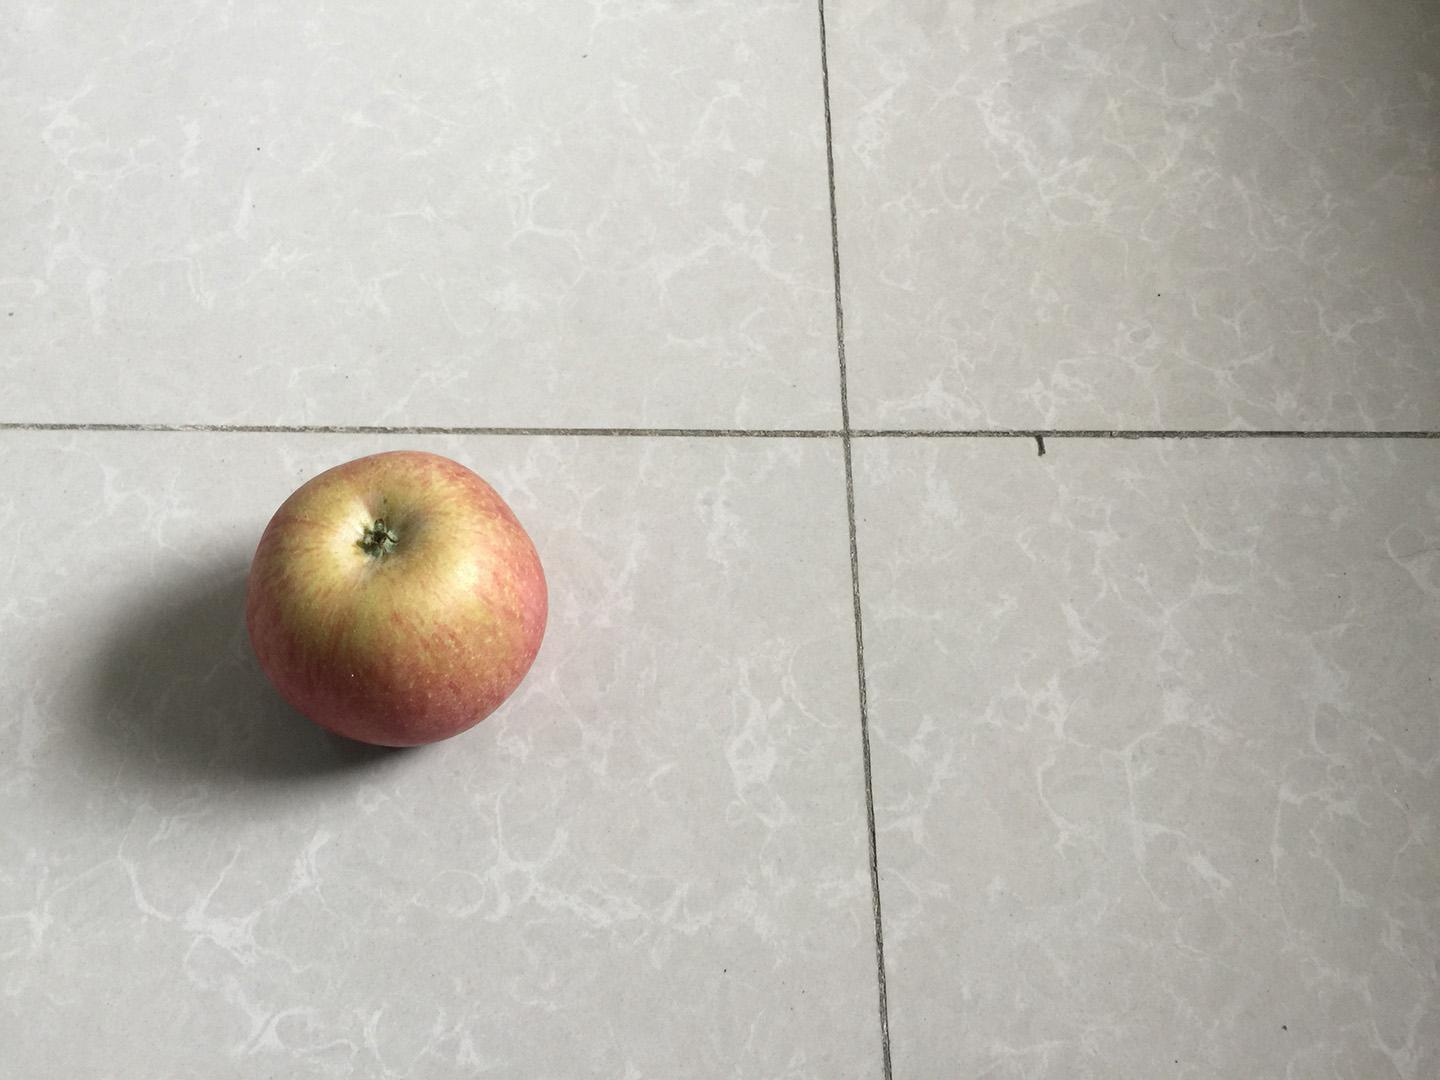apple: (242, 447, 556, 752)
